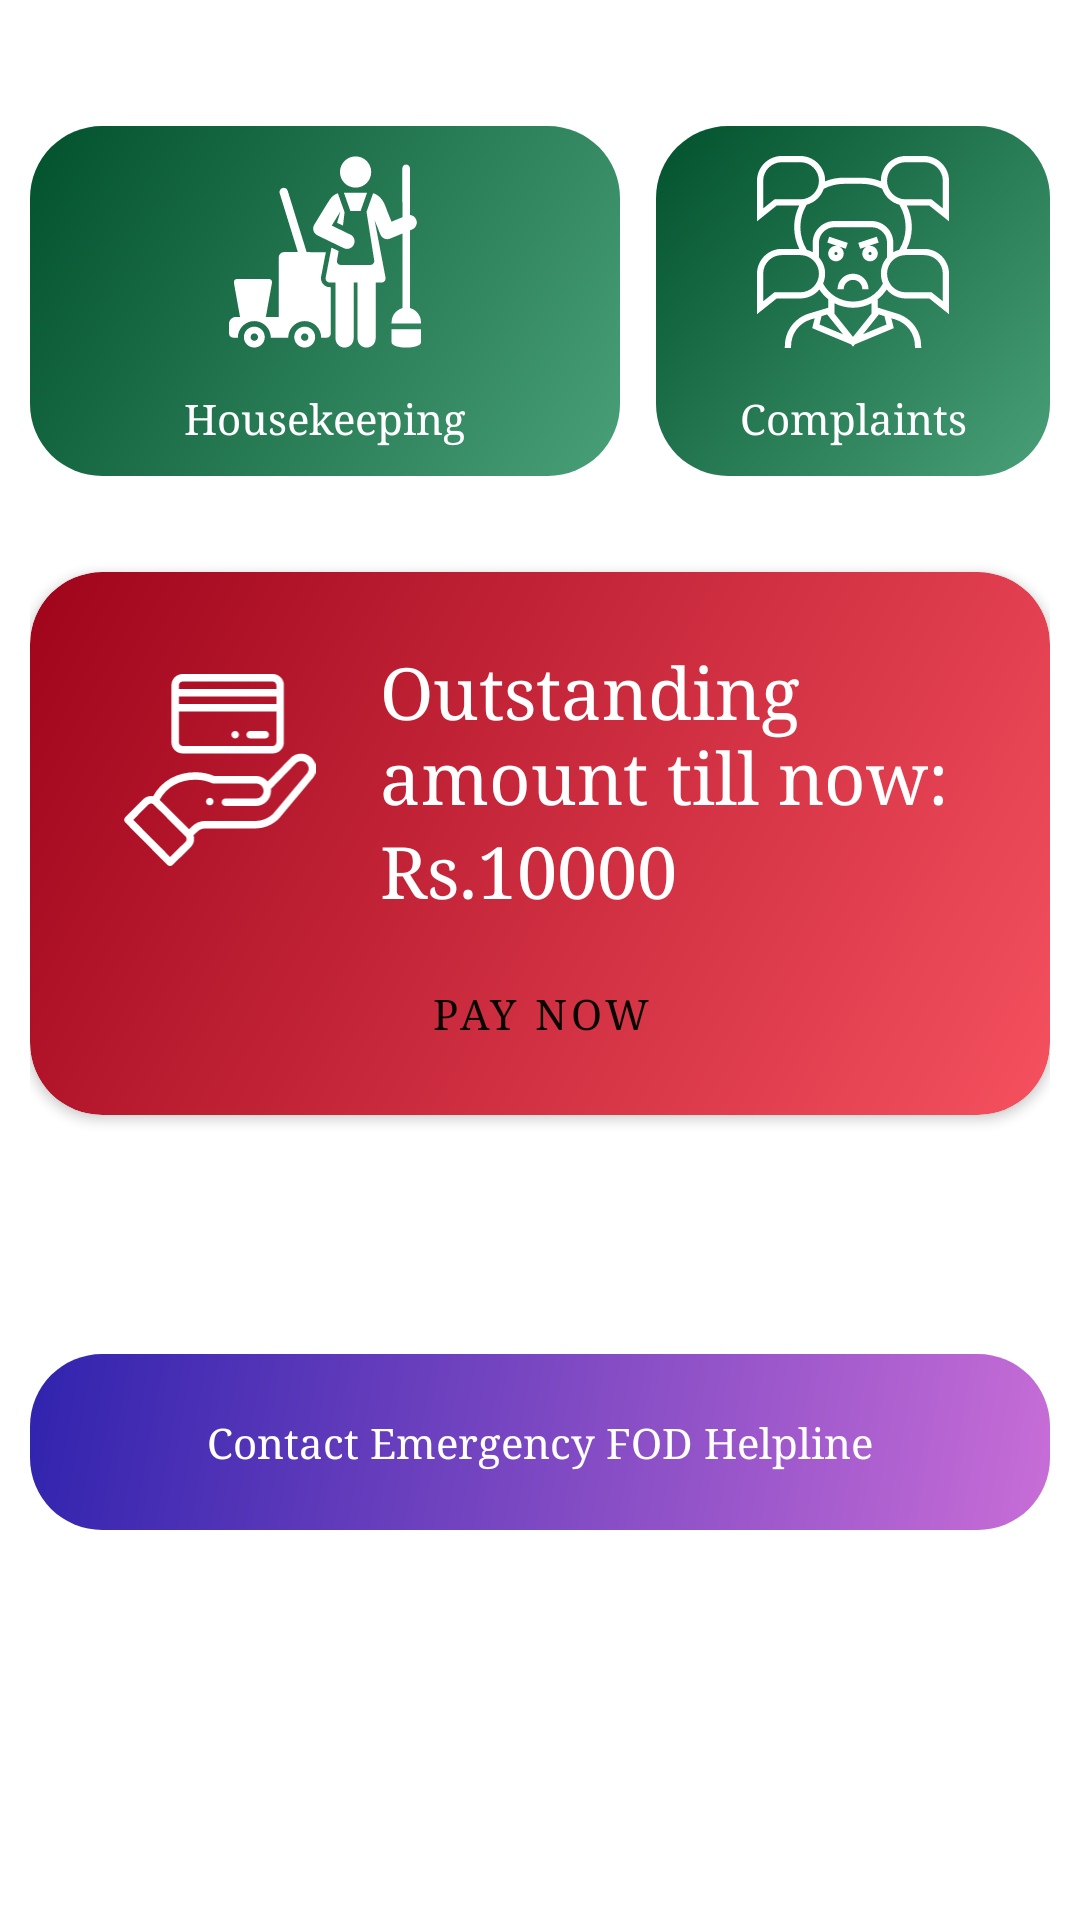

Icon click points for this 1080 x 1920 phone screenshot, format point (x, y):
maid: point (325, 252)
